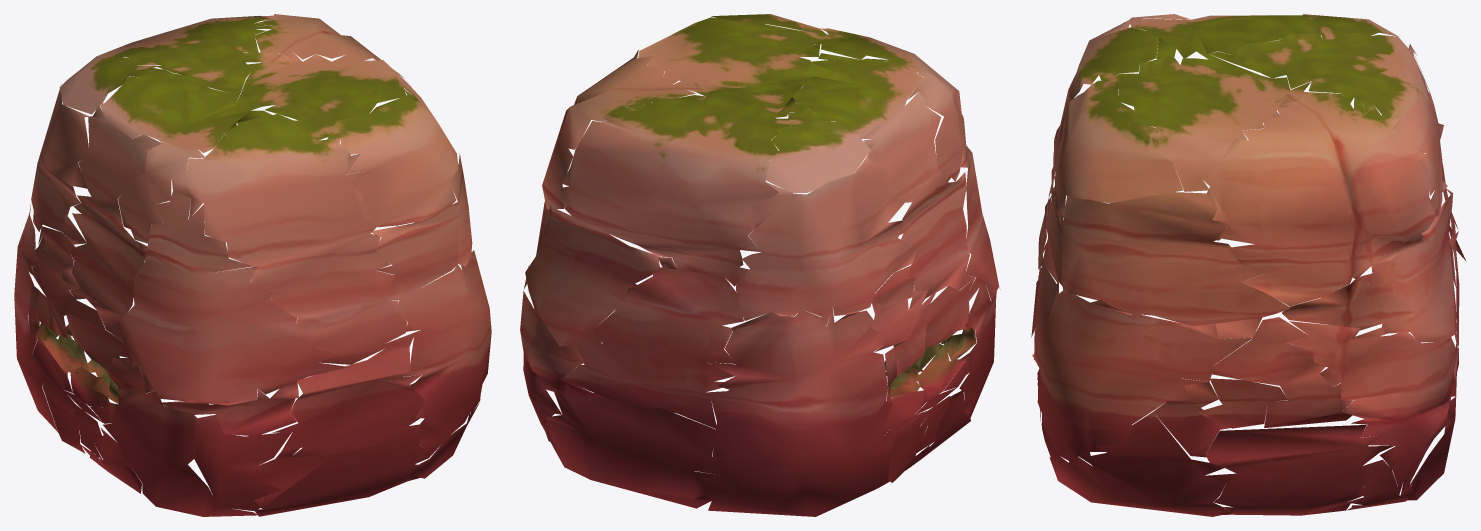
The model's file is sandstone-rounded.glb.
3 renders of one model, left to right at view 1: azimuth 30°, elevation 25°; view 2: azimuth 150°, elevation 25°; view 3: azimuth 270°, elevation 25°, orthographic. The views are drawn at different scales.
Visible parts, largest first — view 1: tripo_node_bf1d3bc5-6b8b-4abd-8db2-0fcda86cf045; view 2: tripo_node_bf1d3bc5-6b8b-4abd-8db2-0fcda86cf045; view 3: tripo_node_bf1d3bc5-6b8b-4abd-8db2-0fcda86cf045.
Part boxes in pixels (x1,y1,x2,y2): tripo_node_bf1d3bc5-6b8b-4abd-8db2-0fcda86cf045: (14, 14, 491, 516); tripo_node_bf1d3bc5-6b8b-4abd-8db2-0fcda86cf045: (520, 14, 1000, 516); tripo_node_bf1d3bc5-6b8b-4abd-8db2-0fcda86cf045: (1031, 14, 1465, 516).
Size of the model in its own units: 1.01 by 0.9994 by 1.02.
1 material, 1 textured.
